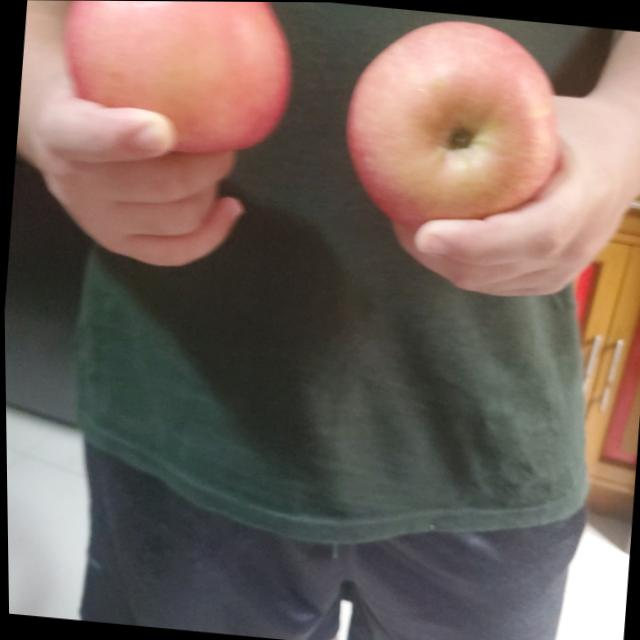apple: (338, 6, 568, 235), (54, 0, 296, 158)
